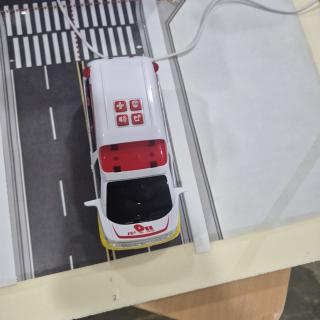Ambulance: (83, 57, 188, 250)
